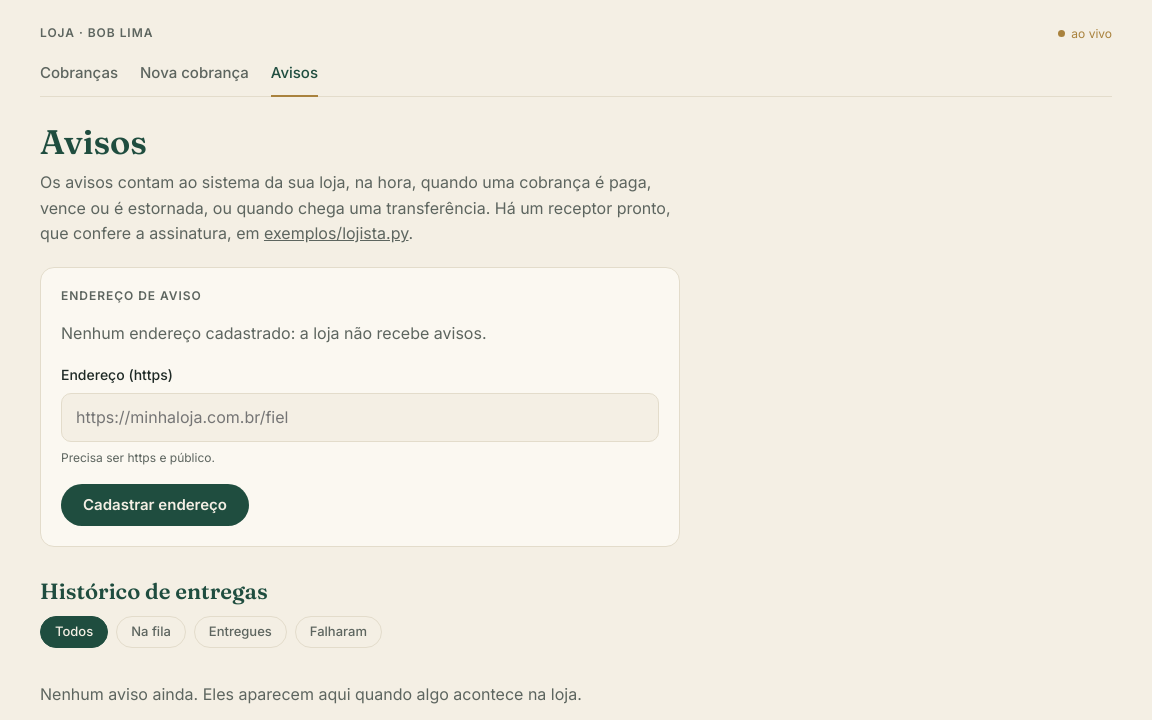
Test case: Avisos › mostra a mensagem da API para endereço que não é público
This screenshot has width=1152, height=720.
Step 1. Type "https://192.168.0.10/fiel" into the field labelled "Endereço (https)" → {"x": 360, "y": 418}, box [61, 393, 659, 442]
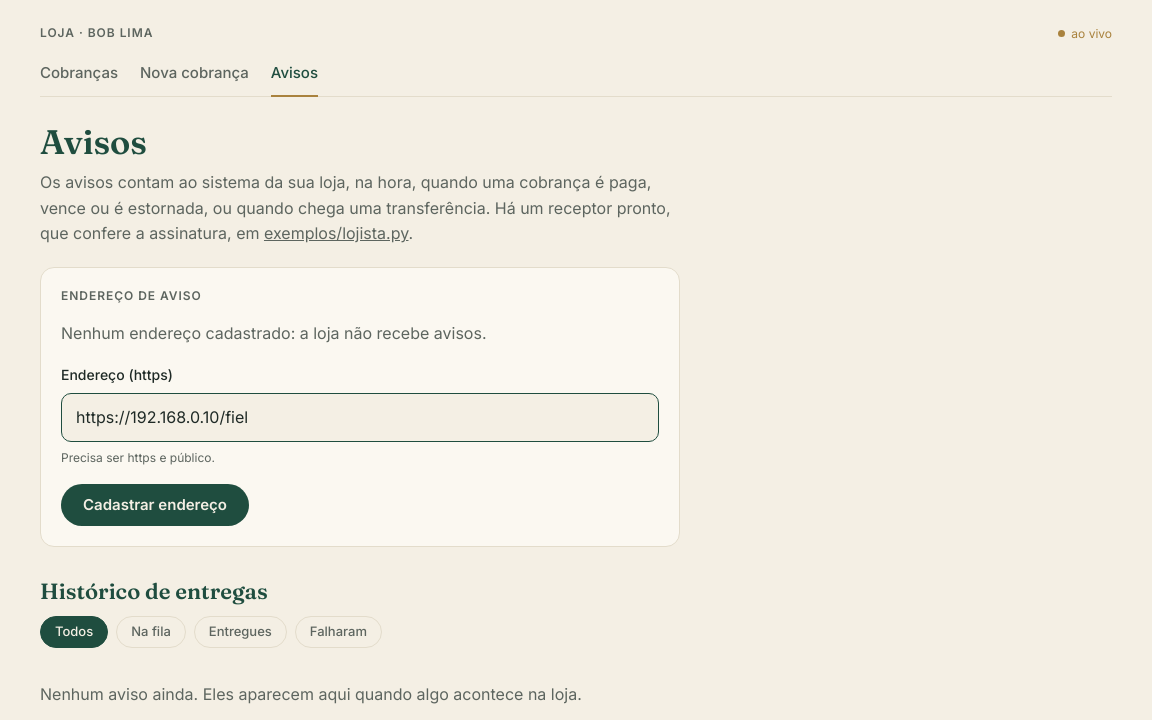
Step 2. Click the button "Cadastrar endereço" → {"x": 155, "y": 505}, box [61, 484, 249, 526]
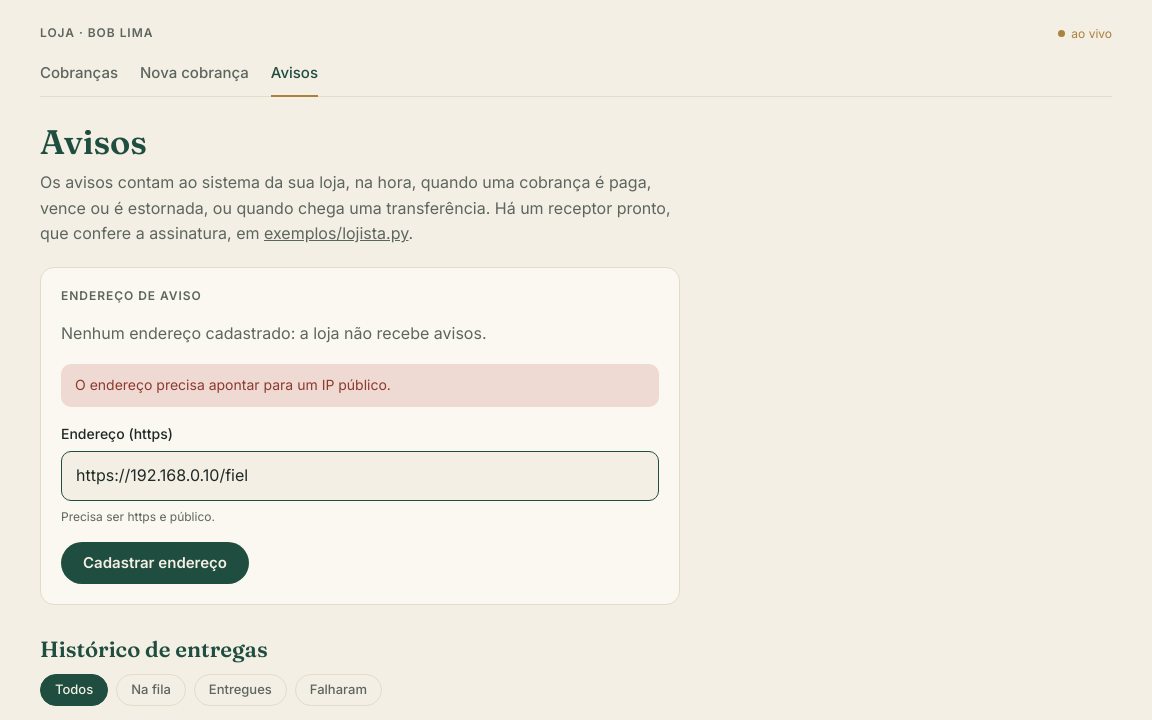
Check: the message reads "O endereço precisa apontar para um IP público.", box [75, 376, 391, 394]
